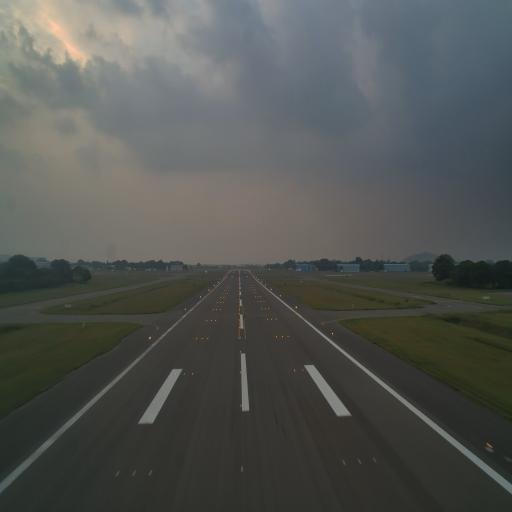on: (485, 443, 494, 456), (369, 455, 378, 467), (130, 468, 137, 479), (341, 456, 347, 468), (356, 456, 363, 466), (114, 469, 120, 479), (148, 466, 152, 478), (240, 464, 244, 474), (309, 367, 314, 372), (292, 368, 296, 374), (239, 402, 242, 408), (182, 372, 186, 376), (174, 372, 177, 377), (191, 371, 194, 376), (239, 370, 242, 375), (302, 367, 305, 372)
